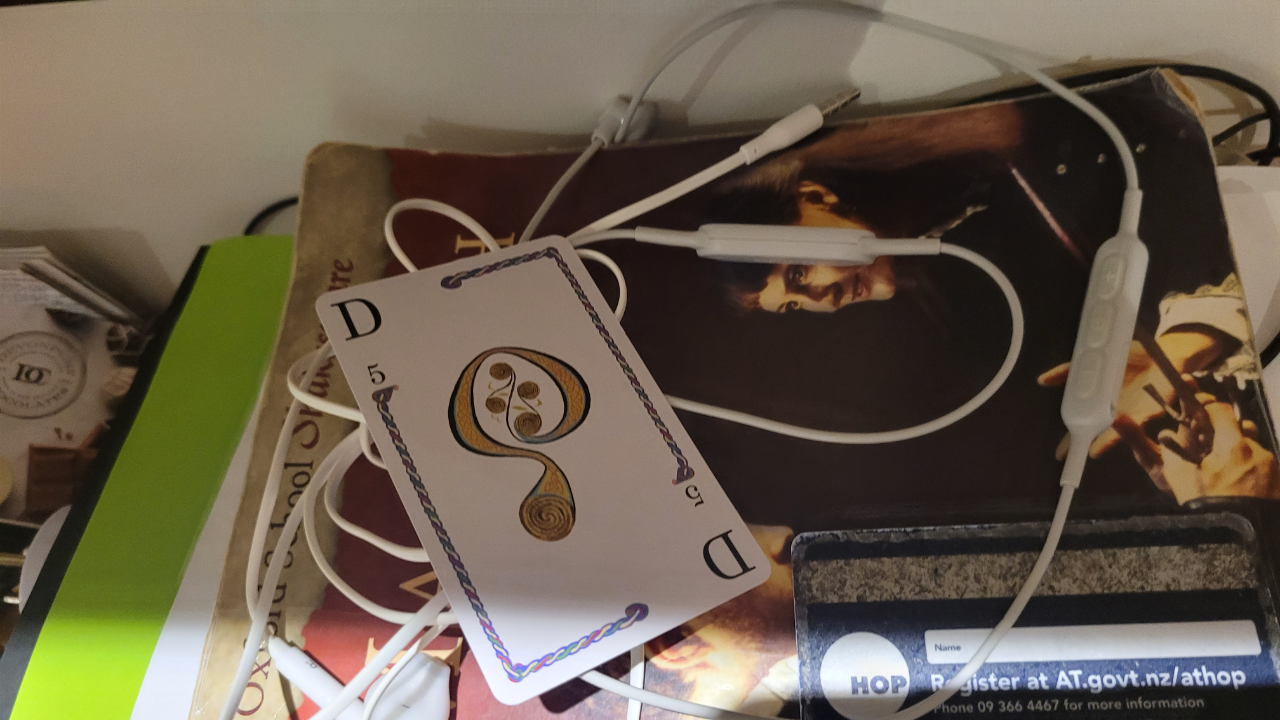quiddler_card: (295, 231, 782, 715)
